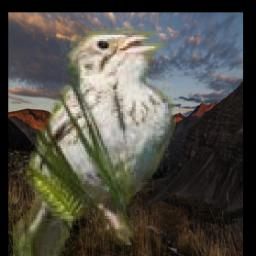Sparrow: (13, 28, 176, 256)
